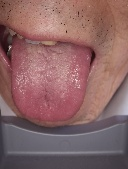tongue: (10, 48, 93, 123)
